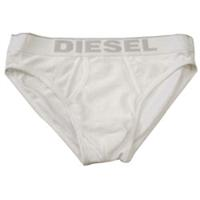mutande: (4, 32, 197, 165)
